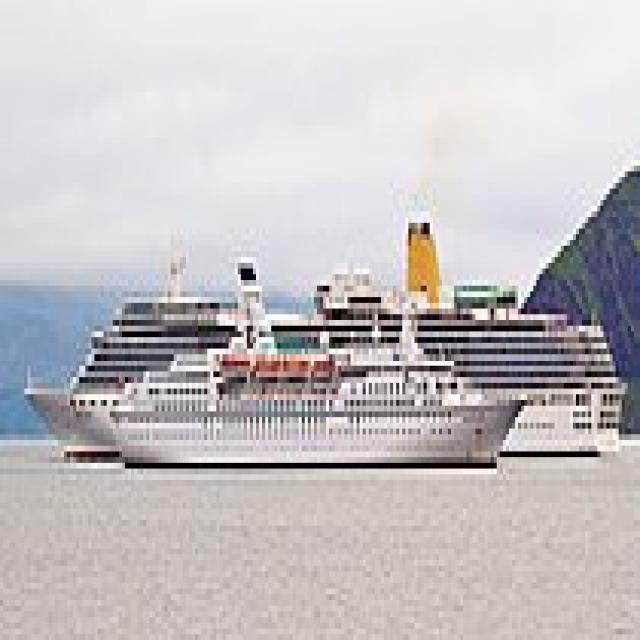Ship: (111, 327, 532, 487)
